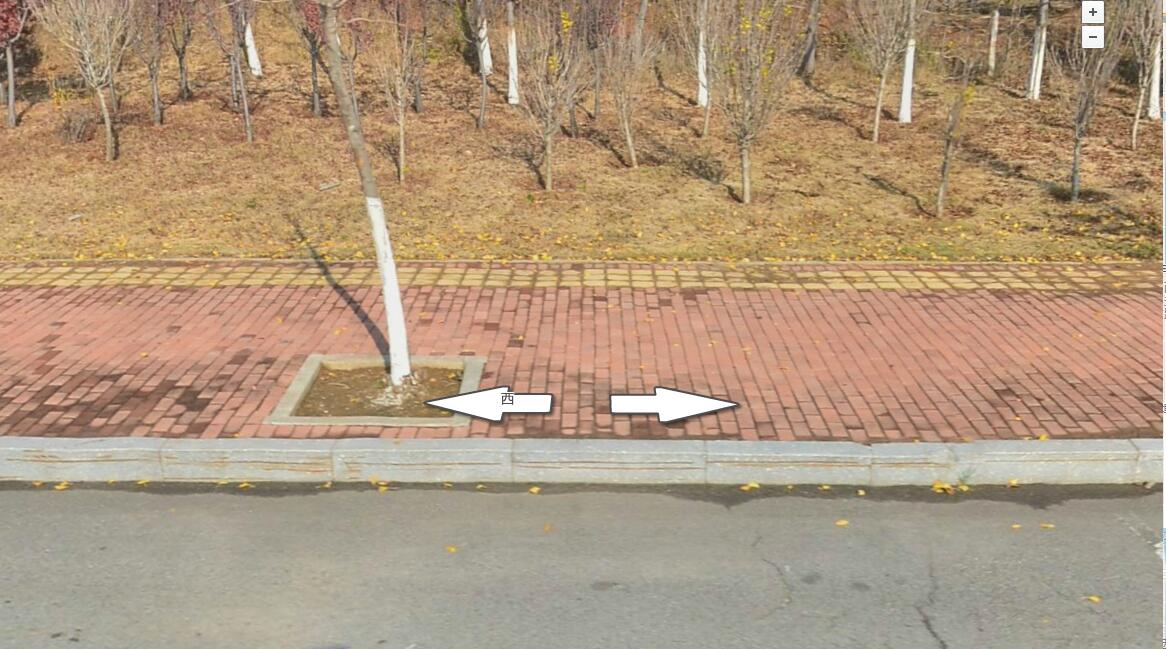side: (513, 439, 708, 485), (332, 438, 513, 483), (159, 437, 332, 484), (706, 441, 872, 486)
